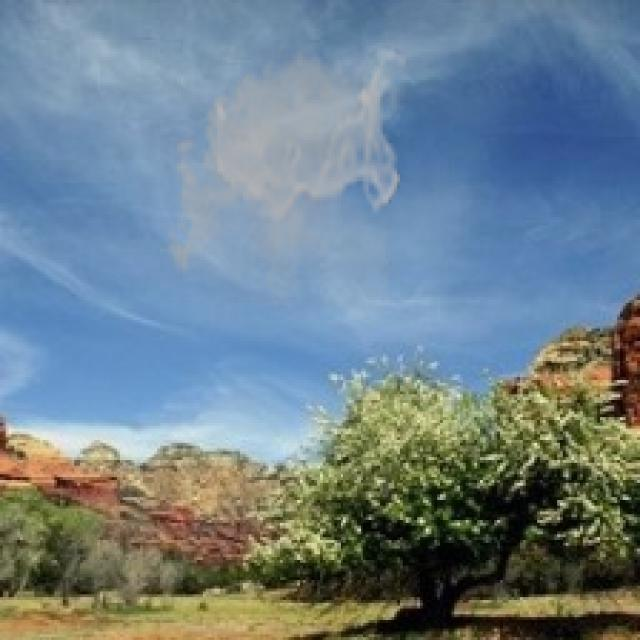Smoke: (160, 40, 406, 306)
